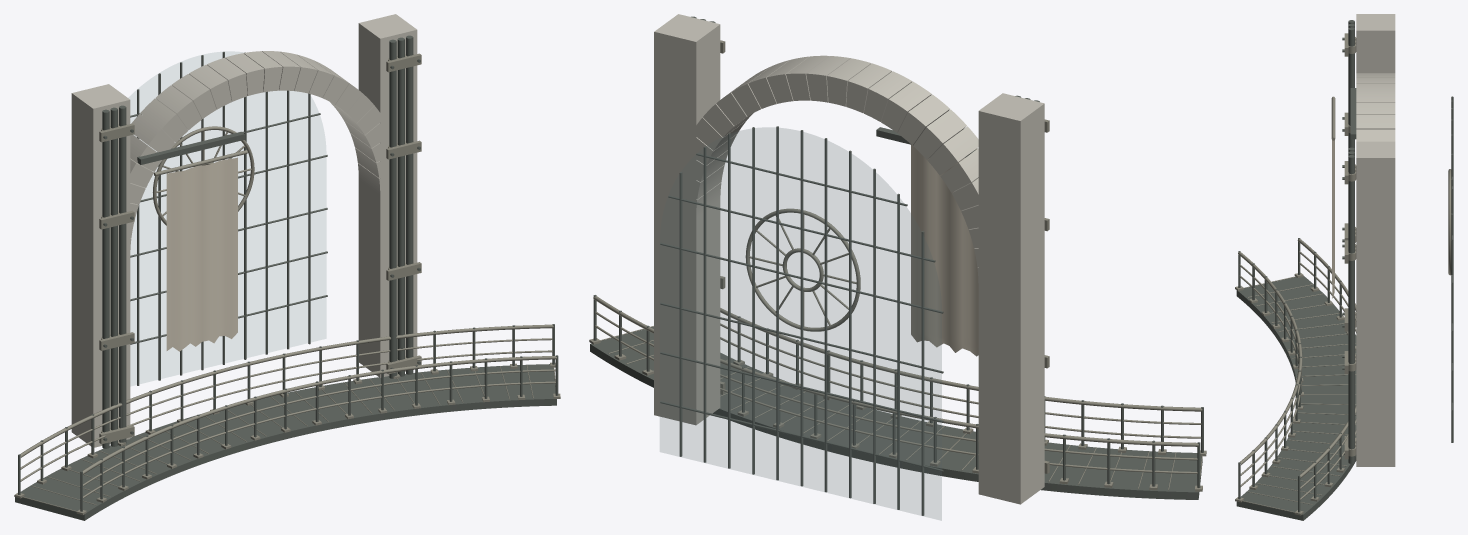
The model's file is paul-upper-segment-v1.glb.
3 renders of one model, left to right at view 1: azimuth 30°, elevation 25°; view 2: azimuth 150°, elevation 25°; view 3: azimuth 270°, elevation 25°, orthographic. The views are drawn at different scales.
Visible parts, largest first — view 1: recessed-arched-glazing, stone-pier (×2), curved-balcony-deck, vertical-service-pipe (×6), hanging-cloth-banner, continuous-curved-handrail (×6), window-vertical-mullion (×6), banner-support-beam, arch-voussoir-17, arch-voussoir-16, arch-voussoir-15, arch-voussoir-14 (+7 smaller); view 2: recessed-arched-glazing, stone-pier (×2), curved-balcony-deck, window-vertical-mullion (×11), hanging-cloth-banner, continuous-curved-handrail (×6), window-horizontal-mullion (×5), window-rosette, arch-voussoir-17, arch-voussoir-16, arch-voussoir-18, arch-voussoir-15 (+8 smaller); view 3: stone-pier (×2), curved-balcony-deck, continuous-curved-handrail (×6), vertical-service-pipe (×2), window-vertical-mullion, arch-voussoir-9, arch-voussoir-8, arch-voussoir-10, hanging-cloth-banner, arch-voussoir-11, window-rosette, banner-support-beam (+1 smaller).
Boxes of the visible parts, x1,y1,x2,y2 form: recessed-arched-glazing: (129,51,326,385); stone-pier (×2): (71,14,417,447); curved-balcony-deck: (15,364,556,520); vertical-service-pipe (×6): (102,35,413,448); hanging-cloth-banner: (166,157,237,351); continuous-curved-handrail (×6): (20,324,556,498); window-vertical-mullion (×6): (137,52,310,385); banner-support-beam: (137,131,244,164); arch-voussoir-17: (140,98,187,142); arch-voussoir-16: (156,85,201,130); arch-voussoir-15: (172,74,216,118); arch-voussoir-14: (189,64,231,109); recessed-arched-glazing: (660,127,941,520); stone-pier (×2): (654,14,1044,504); curved-balcony-deck: (590,327,1202,499); window-vertical-mullion (×11): (679,126,924,515); hanging-cloth-banner: (911,145,978,356); continuous-curved-handrail (×6): (593,296,1202,473); window-horizontal-mullion (×5): (660,195,943,471); window-rosette: (745,208,860,331); arch-voussoir-17: (913,109,966,159); arch-voussoir-16: (897,94,949,145); arch-voussoir-18: (927,126,978,175); arch-voussoir-15: (881,81,931,132); stone-pier (×2): (1356,14,1395,466); curved-balcony-deck: (1236,276,1356,520); continuous-curved-handrail (×6): (1238,239,1356,499); vertical-service-pipe (×2): (1348,27,1354,463); window-vertical-mullion: (1451,213,1453,442); arch-voussoir-9: (1356,115,1395,129); arch-voussoir-8: (1356,129,1395,141); arch-voussoir-10: (1356,102,1395,114); hanging-cloth-banner: (1332,140,1334,298); arch-voussoir-11: (1356,92,1395,102); window-rosette: (1448,169,1451,275); banner-support-beam: (1350,88,1356,139).
Bounding box in the file's own units: 18.24 × 11.12 × 7.
